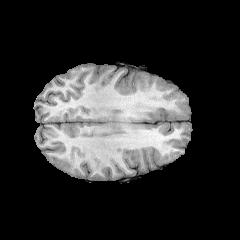glioma: (140, 98, 189, 119)
